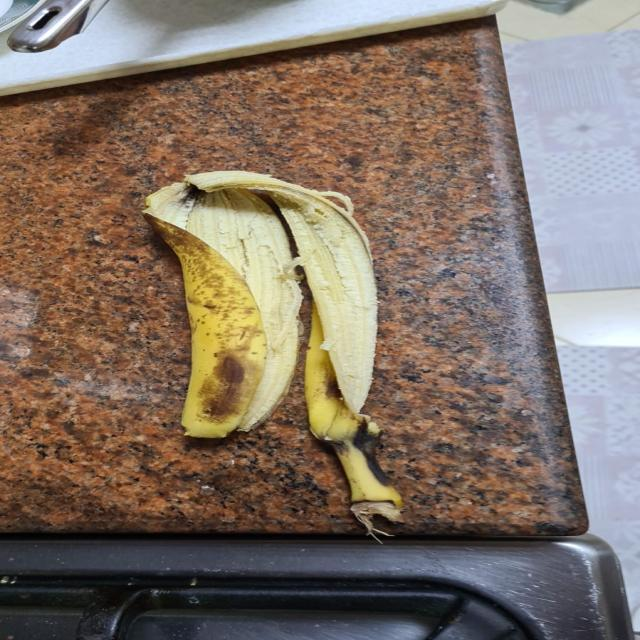banana-peel: (140, 168, 404, 538)
